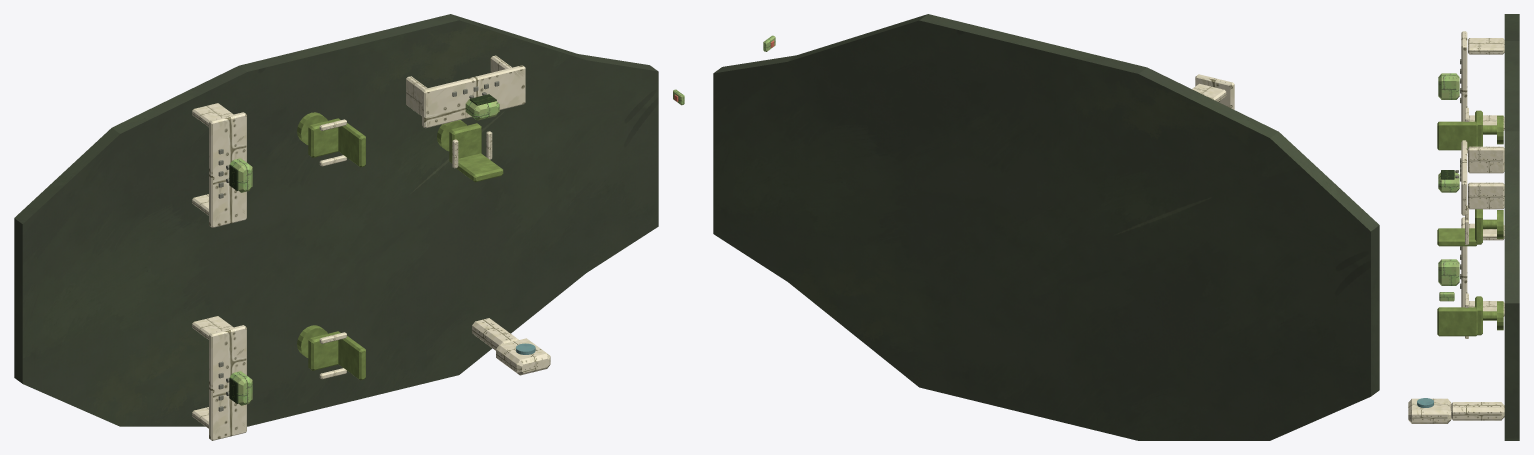
The model's file is ECHO7_01_Cabina.obj.
3 renders of one model, left to right at view 1: azimuth 30°, elevation 25°; view 2: azimuth 150°, elevation 25°; view 3: azimuth 270°, elevation 25°, orthographic. The views are drawn at different scales.
Visible parts, largest first — view 1: ECHO7_01_Cabina__Suelo_cabina_01, ECHO7_01_Cabina__Mesa_tablero_03, ECHO7_01_Cabina__Mesa_tablero_02, ECHO7_01_Cabina__Mesa_tablero_01, ECHO7_01_Cabina__ERICK_carcasa_01, ECHO7_01_Cabina__Asiento_01, ECHO7_01_Cabina__Asiento_02, ECHO7_01_Cabina__Asiento_03, ECHO7_01_Cabina__Respaldo_01, ECHO7_01_Cabina__Respaldo_02, ECHO7_01_Cabina__Respaldo_03, ECHO7_01_Cabina__ERICK_pedestal_01; view 2: ECHO7_01_Cabina__Suelo_cabina_01; view 3: ECHO7_01_Cabina__Suelo_cabina_01, ECHO7_01_Cabina__Respaldo_01, ECHO7_01_Cabina__Respaldo_02, ECHO7_01_Cabina__Mesa_pata_05, ECHO7_01_Cabina__Mesa_pata_06, ECHO7_01_Cabina__ERICK_pedestal_01, ECHO7_01_Cabina__ERICK_carcasa_01, ECHO7_01_Cabina__Respaldo_03, ECHO7_01_Cabina__Mesa_pata_03, ECHO7_01_Cabina__Mesa_tablero_02, ECHO7_01_Cabina__CRT_carcasa_01, ECHO7_01_Cabina__CRT_carcasa_02 (+18 smaller).
Boxes of the visible parts, left/top/right/bottom form: ECHO7_01_Cabina__Suelo_cabina_01: left=14, top=14, right=658, bottom=426; ECHO7_01_Cabina__Mesa_tablero_03: left=422, top=65, right=525, bottom=128; ECHO7_01_Cabina__Mesa_tablero_02: left=209, top=112, right=246, bottom=227; ECHO7_01_Cabina__Mesa_tablero_01: left=209, top=325, right=246, bottom=440; ECHO7_01_Cabina__ERICK_carcasa_01: left=496, top=338, right=550, bottom=375; ECHO7_01_Cabina__Asiento_01: left=308, top=331, right=340, bottom=370; ECHO7_01_Cabina__Asiento_02: left=308, top=118, right=340, bottom=157; ECHO7_01_Cabina__Asiento_03: left=449, top=123, right=481, bottom=163; ECHO7_01_Cabina__Respaldo_01: left=338, top=336, right=365, bottom=380; ECHO7_01_Cabina__Respaldo_02: left=338, top=123, right=365, bottom=167; ECHO7_01_Cabina__Respaldo_03: left=456, top=153, right=503, bottom=182; ECHO7_01_Cabina__ERICK_pedestal_01: left=472, top=318, right=518, bottom=350; ECHO7_01_Cabina__Suelo_cabina_01: left=713, top=14, right=1379, bottom=440; ECHO7_01_Cabina__Suelo_cabina_01: left=1504, top=14, right=1519, bottom=440; ECHO7_01_Cabina__Respaldo_01: left=1437, top=307, right=1477, bottom=336; ECHO7_01_Cabina__Respaldo_02: left=1437, top=121, right=1477, bottom=150; ECHO7_01_Cabina__Mesa_pata_05: left=1468, top=182, right=1504, bottom=209; ECHO7_01_Cabina__Mesa_pata_06: left=1468, top=146, right=1504, bottom=173; ECHO7_01_Cabina__ERICK_pedestal_01: left=1450, top=402, right=1504, bottom=420; ECHO7_01_Cabina__ERICK_carcasa_01: left=1408, top=398, right=1451, bottom=423; ECHO7_01_Cabina__Respaldo_03: left=1437, top=228, right=1477, bottom=246; ECHO7_01_Cabina__Mesa_pata_03: left=1468, top=38, right=1504, bottom=54; ECHO7_01_Cabina__Mesa_tablero_02: left=1461, top=31, right=1467, bottom=121; ECHO7_01_Cabina__CRT_carcasa_01: left=1438, top=259, right=1459, bottom=285; ECHO7_01_Cabina__CRT_carcasa_02: left=1438, top=73, right=1459, bottom=99.
Size of the model in its own units: 15 by 8 by 2.6.
Materials: 8 (8 with a texture image).
